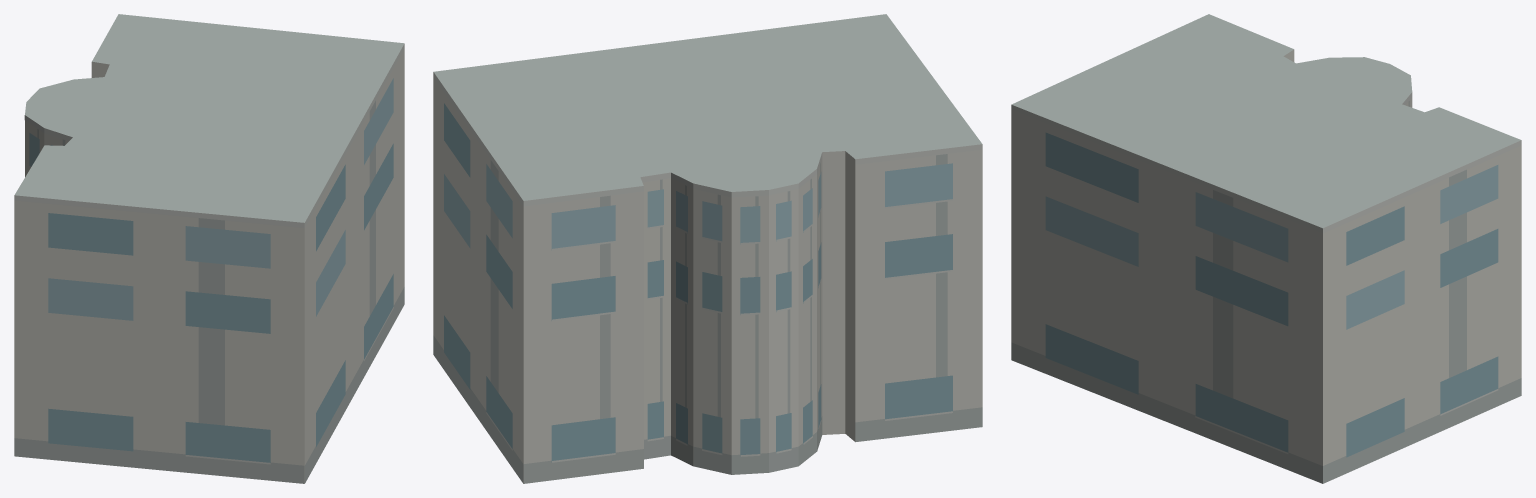
File: survey-upis-32988086.glb
3 views of the same model, side by side, from view 1: azimuth 30°, elevation 25°; view 2: azimuth 150°, elevation 25°; view 3: azimuth 270°, elevation 25° (orthographic). The views are drawn at different scales.
Visible parts, largest first — view 1: survey-upis-32988086.tmp; view 2: survey-upis-32988086.tmp; view 3: survey-upis-32988086.tmp.
Part boxes in pixels (bbox=[...]): survey-upis-32988086.tmp: bbox=[14, 14, 404, 483]; survey-upis-32988086.tmp: bbox=[433, 14, 982, 483]; survey-upis-32988086.tmp: bbox=[1011, 14, 1521, 483].
Size of the model in its own units: 21.95 by 12.2 by 22.08.
